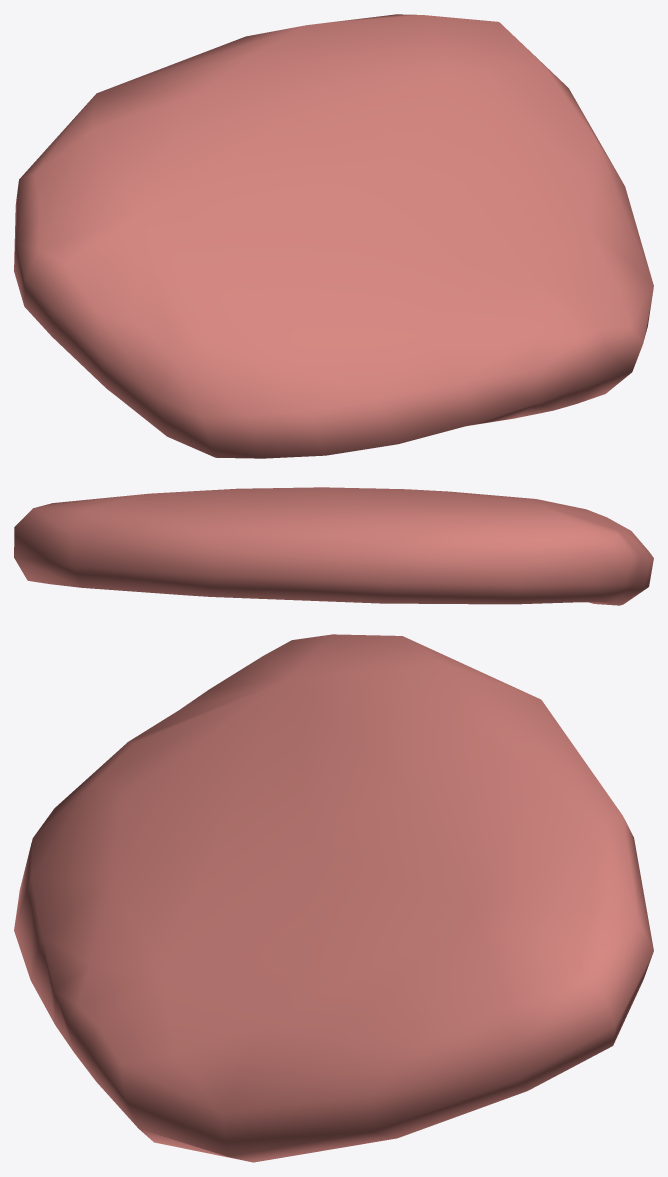
3 renders of one model, top to bottom at view 1: azimuth 30°, elevation 25°; view 2: azimuth 150°, elevation 25°; view 3: azimuth 270°, elevation 25°, orthographic. The views are drawn at different scales.
Visible parts, largest first — view 1: ZA_353f78b9725c0ad0; view 2: ZA_353f78b9725c0ad0; view 3: ZA_353f78b9725c0ad0.
Boxes of the visible parts, left/top/right/bottom form: ZA_353f78b9725c0ad0: left=14, top=14, right=653, bottom=458; ZA_353f78b9725c0ad0: left=14, top=487, right=653, bottom=605; ZA_353f78b9725c0ad0: left=14, top=634, right=653, bottom=1162.
Bounding box in the file's own units: 0.00353 × 0.00135 × 0.00281.
